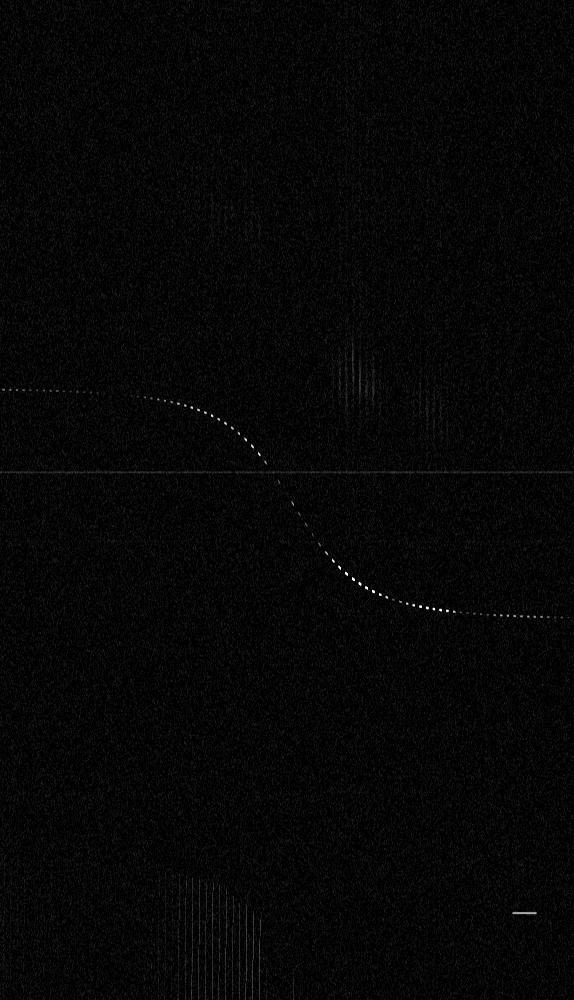signal: (0, 0, 573, 999)
